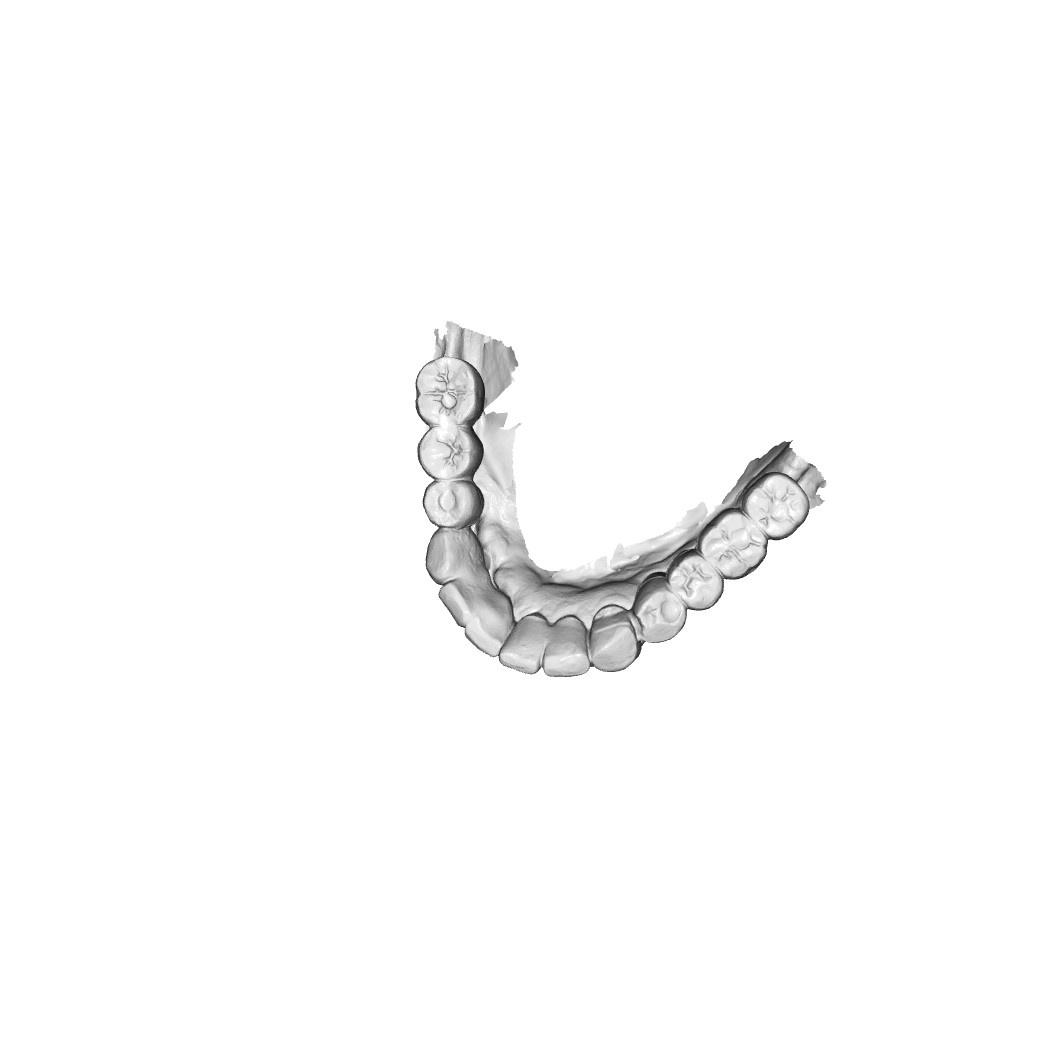canine: (426, 524, 488, 582), (588, 607, 642, 673)
incisor: (440, 576, 492, 627), (546, 614, 588, 674), (501, 620, 545, 673), (467, 603, 510, 654)
molar: (415, 357, 483, 424), (702, 506, 766, 574), (747, 473, 805, 536)
premolar: (418, 425, 484, 480), (636, 575, 687, 639), (422, 477, 482, 531), (670, 550, 724, 607)
